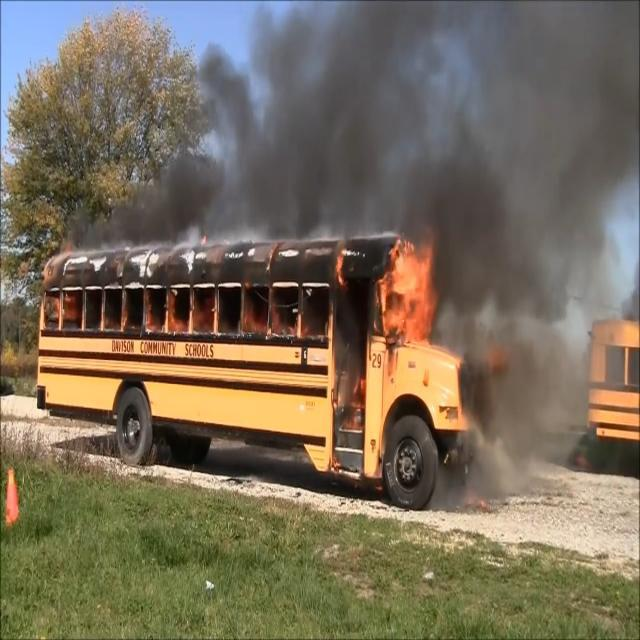Fire: (394, 249, 432, 347)
Smoke: (263, 22, 640, 215)
